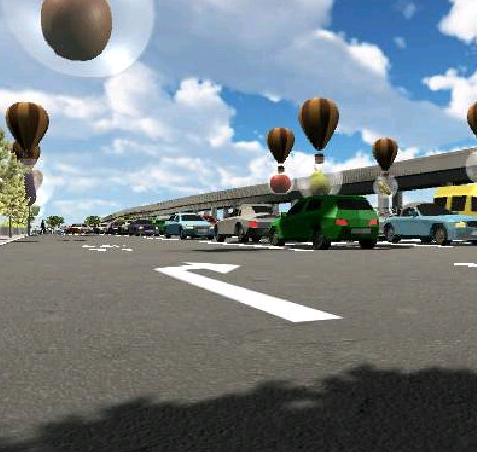ground_right: (149, 260, 245, 276)
